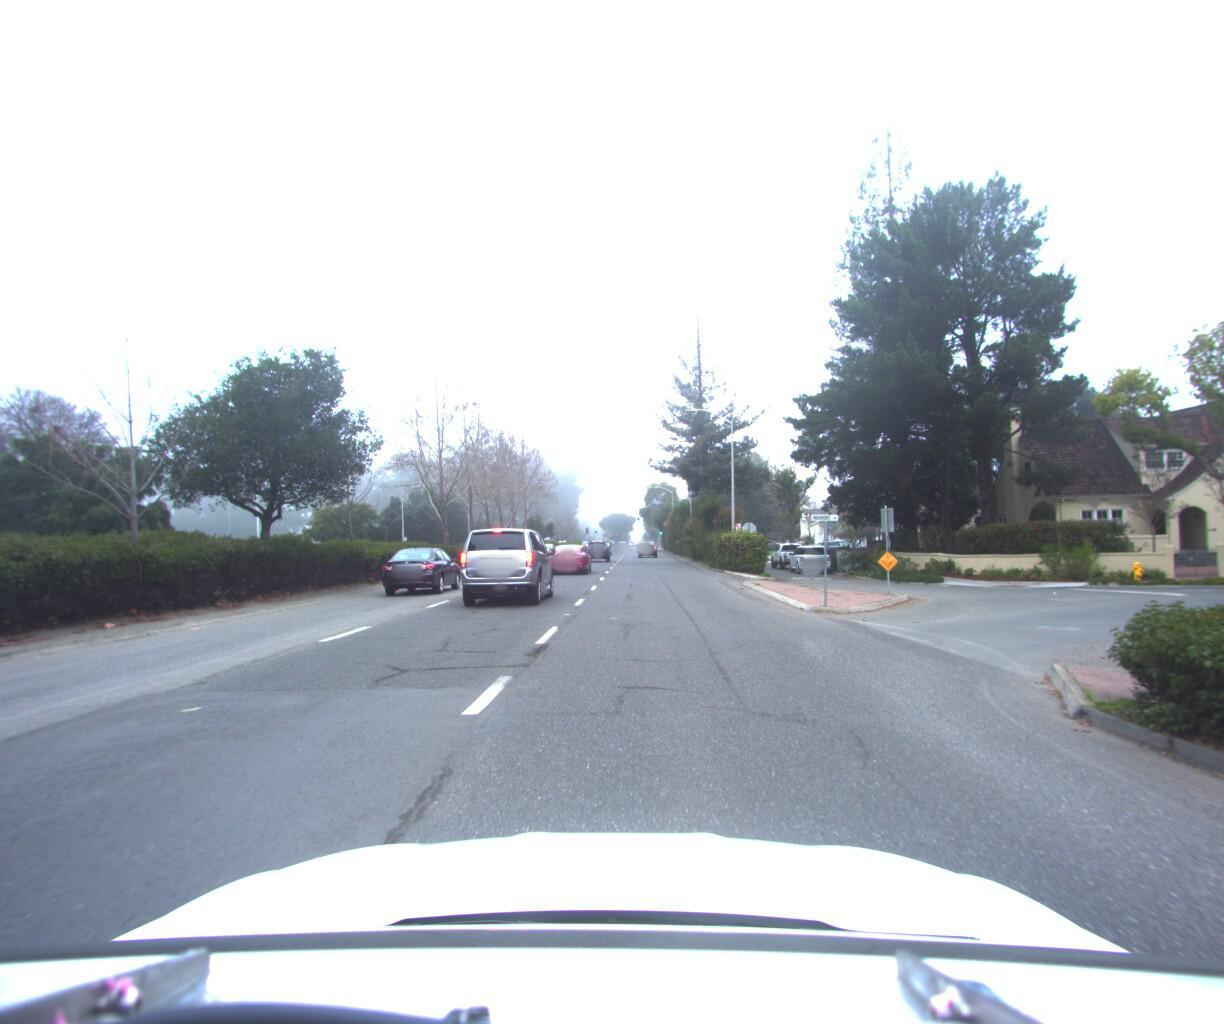car: (448, 520, 559, 608), (377, 541, 468, 594), (546, 537, 595, 571), (781, 536, 832, 568), (767, 535, 814, 563), (584, 533, 611, 556), (639, 531, 661, 551)
